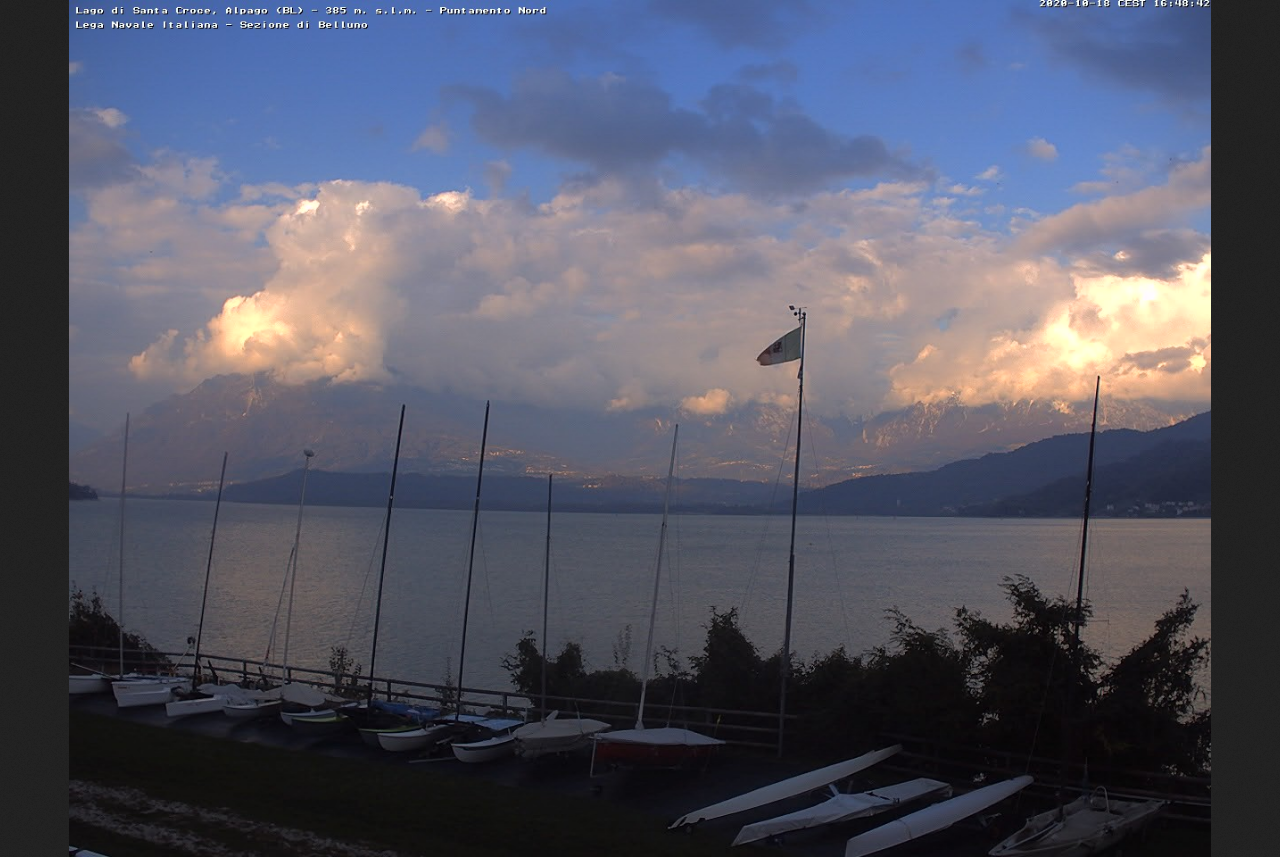maybe: (751, 318, 807, 369)
